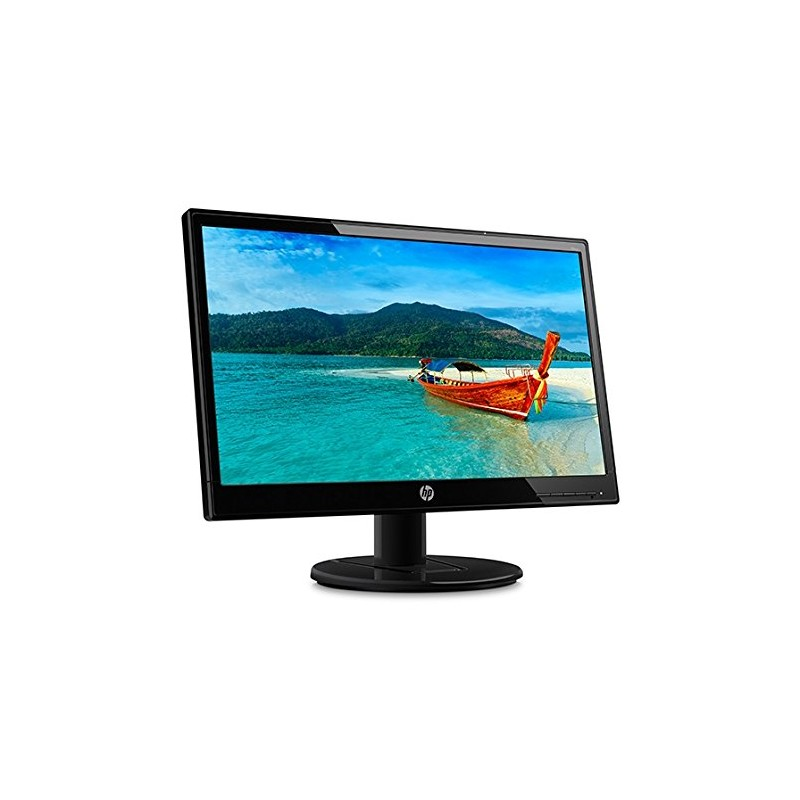hp-monitor-19ka: (148, 220, 613, 596)
